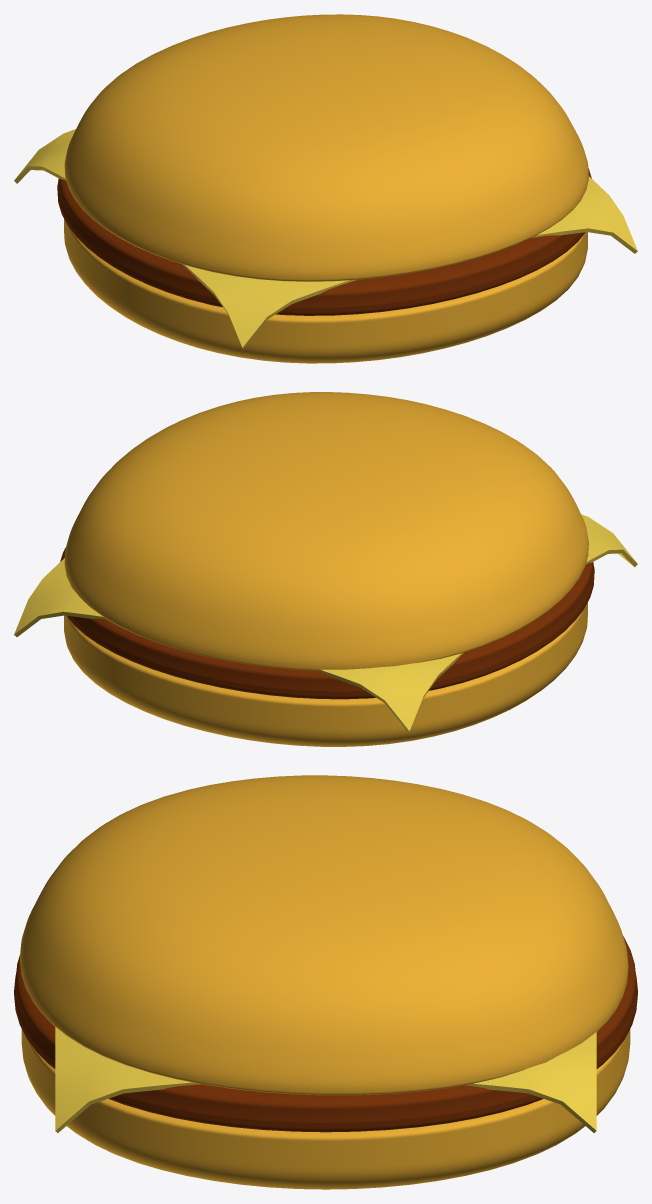
Rendered from hamburger.glb.
The picture shows the model from 3 angles, top to bottom: view 1: azimuth 30°, elevation 25°; view 2: azimuth 150°, elevation 25°; view 3: azimuth 270°, elevation 25°; orthographic projection. The views are drawn at different scales.
Parts seen in each view (by area): view 1: Cube.002, Cube, Cube.001, Plane; view 2: Cube.002, Cube, Cube.001, Plane; view 3: Cube.002, Cube, Cube.001, Plane.
Part boxes in pixels (x1,y1,x2,y2): Cube.002: (64,14,588,281); Cube: (64,219,587,363); Cube.001: (57,168,591,315); Plane: (14,129,637,349); Cube.002: (64,392,588,670); Cube: (64,602,587,746); Cube.001: (60,547,594,699); Plane: (14,514,637,732); Cube.002: (20,775,628,1095); Cube: (21,1029,630,1189); Cube.001: (14,936,637,1132); Plane: (55,1027,596,1132).
Bounding box in the file's own units: 9.22 × 4.16 × 9.22.
